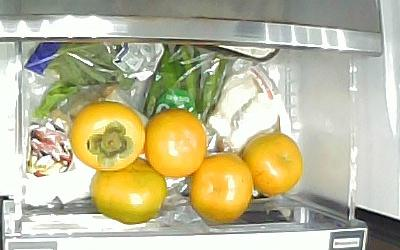persimmon: (71, 100, 145, 172), (88, 157, 167, 224), (189, 154, 252, 226), (146, 109, 205, 179), (242, 132, 303, 197)
